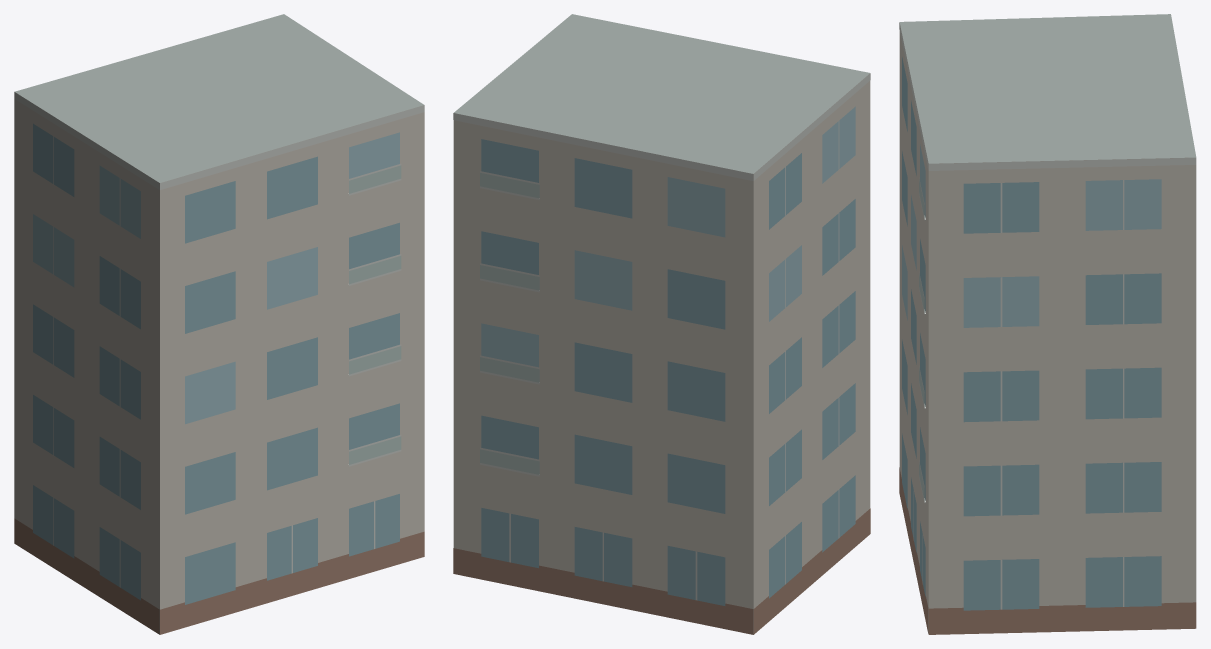
Rendered from survey-upis-33010126.glb.
3 views of the same model, side by side, from view 1: azimuth 30°, elevation 25°; view 2: azimuth 150°, elevation 25°; view 3: azimuth 270°, elevation 25° (orthographic). The views are drawn at different scales.
Visible parts, largest first — view 1: survey-upis-33010126.tmp; view 2: survey-upis-33010126.tmp; view 3: survey-upis-33010126.tmp.
Part boxes in pixels (box(x1,y1,x2,y2)): survey-upis-33010126.tmp: box(14, 14, 424, 634); survey-upis-33010126.tmp: box(453, 14, 870, 634); survey-upis-33010126.tmp: box(899, 14, 1196, 634).
Size of the model in its own units: 10.64 by 15.6 by 8.92.
